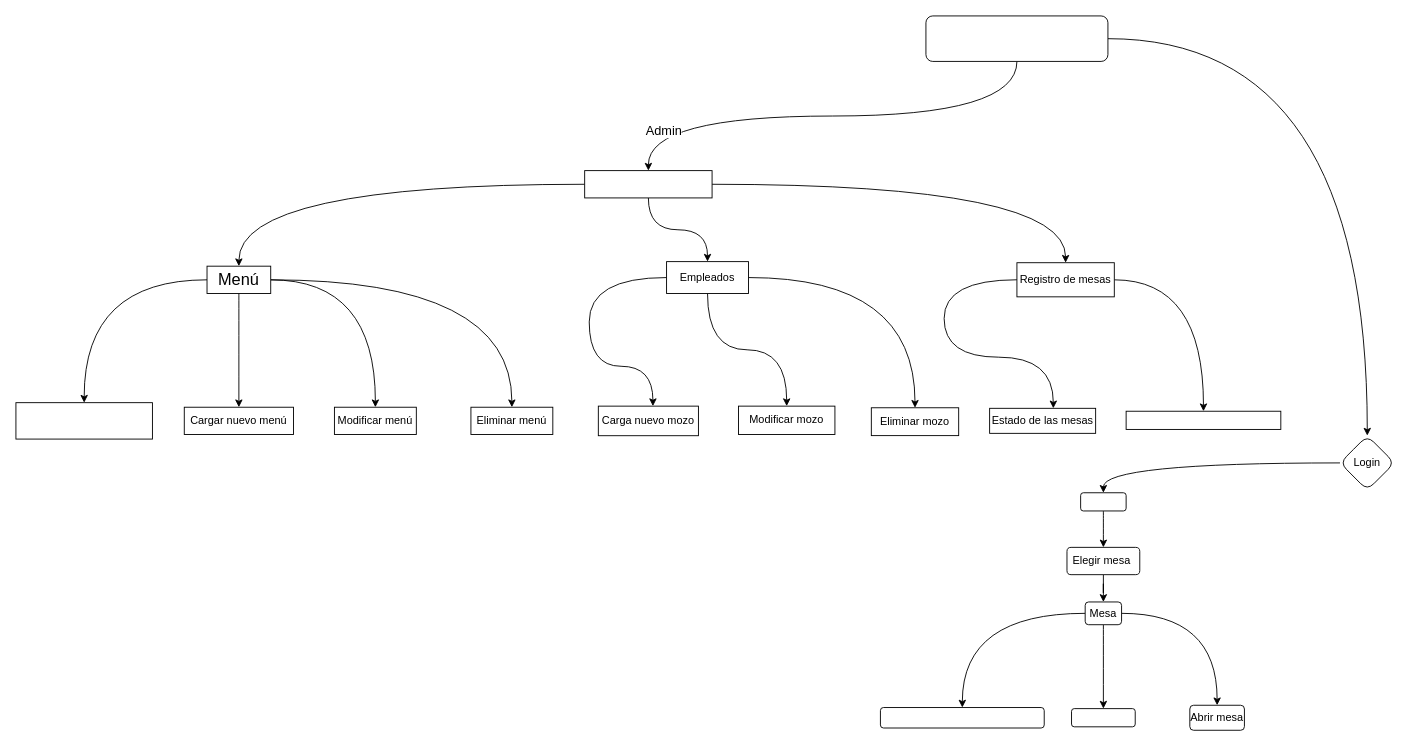
Some shapes in this 1411 by 746 pixel diagram are drawn without their labels. Here are the shapes that lost their labels. From the top down, the box of each, then its label:
(925, 15, 1108, 61): M.O.C
(584, 170, 712, 198): Panel Administrativo
(15, 402, 152, 439): Base de datos con el menú
(1125, 410, 1281, 429): Mostrar pedido de cada mesa
(1080, 492, 1126, 511): Home
(880, 707, 1044, 728): JSON temporales para pedidos
(1071, 708, 1135, 727): Cerrar mesa
